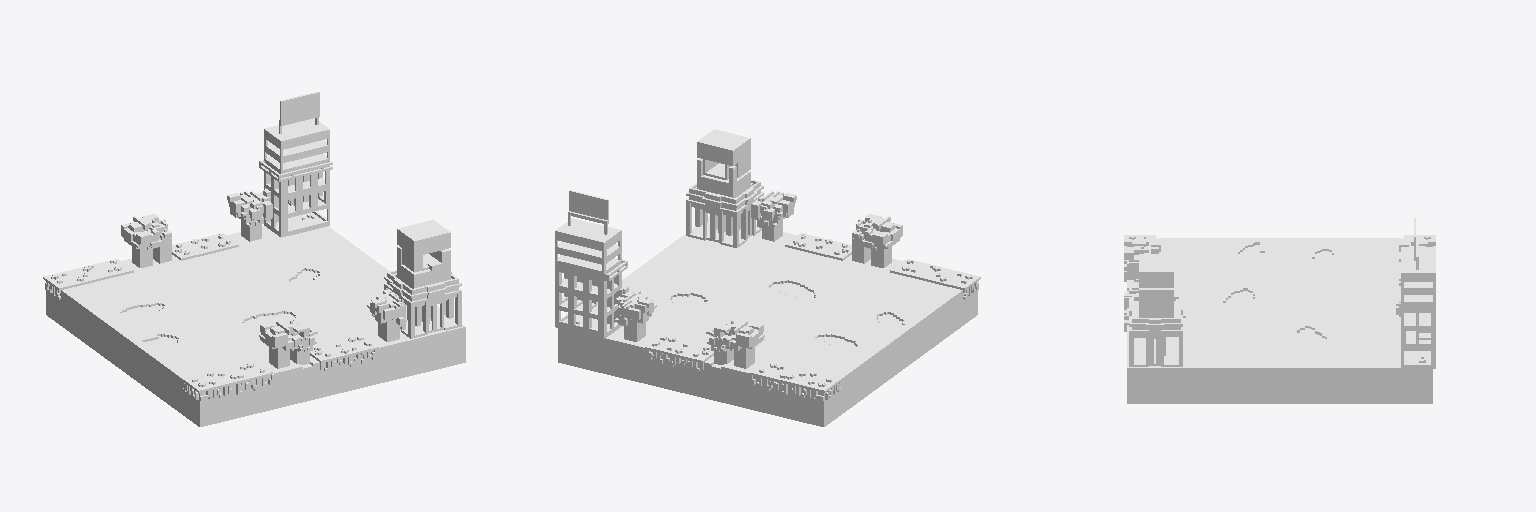
File: calle-1.obj
3 renders of one model, left to right at view 1: azimuth 30°, elevation 25°; view 2: azimuth 150°, elevation 25°; view 3: azimuth 270°, elevation 25°, orthographic.
Visible parts, largest first — view 1: object 1; view 2: object 1; view 3: object 1.
Boxes of the visible parts, <box> form: object 1: <box>43,91,465,426</box>; object 1: <box>555,129,980,426</box>; object 1: <box>1124,218,1435,403</box>.
Size of the model in its own units: 12.6 by 7.4 by 12.6.